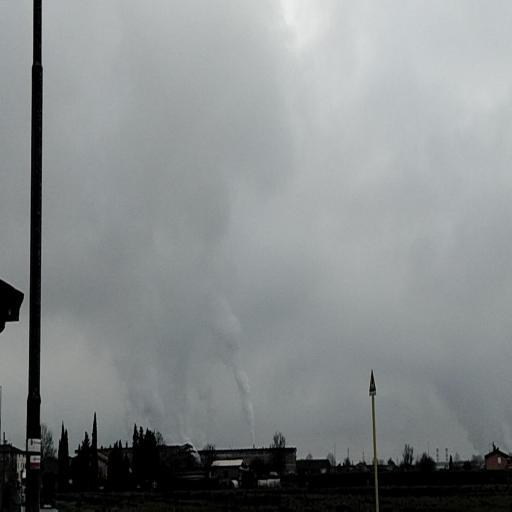leakage: (80, 238, 261, 455)
